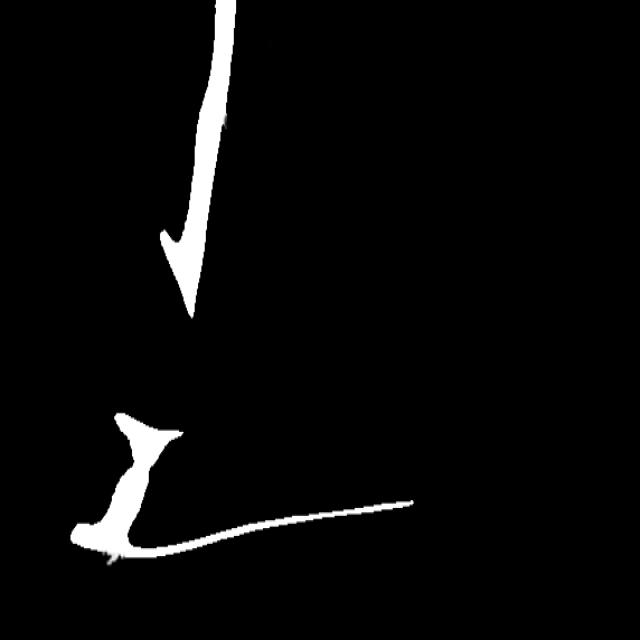sup_pli: (102, 543, 122, 569)
